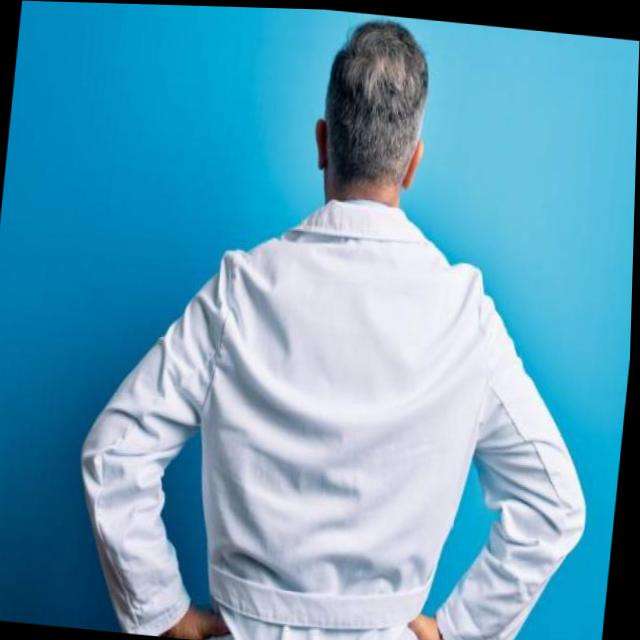no helmet: (303, 7, 441, 238)
